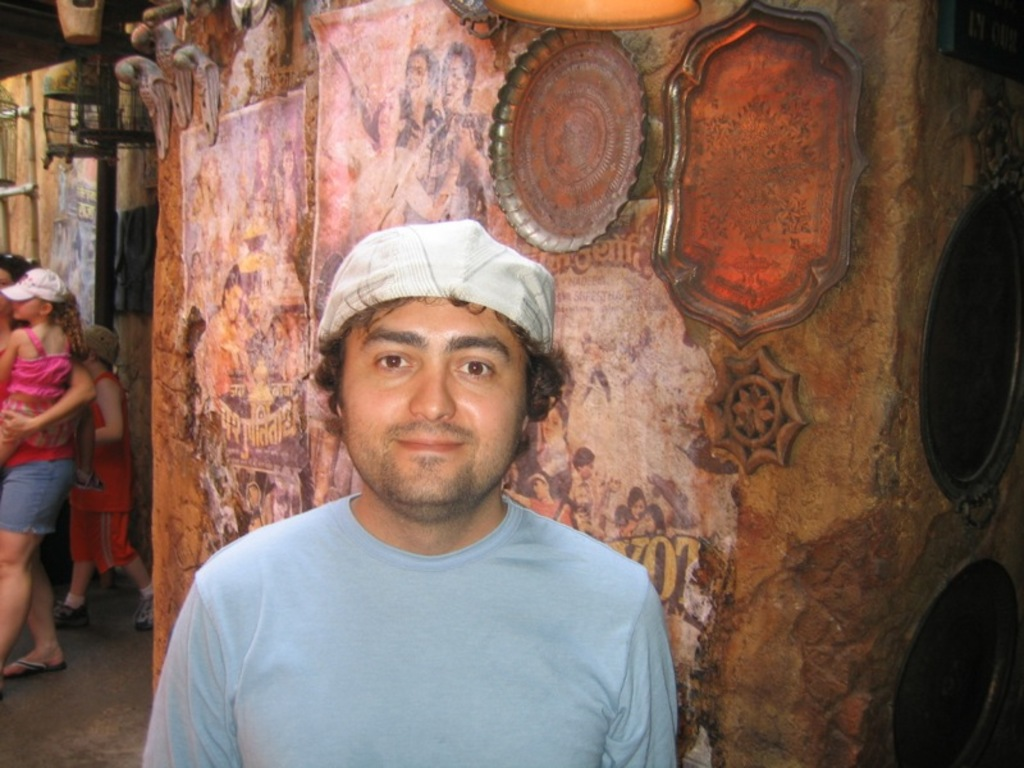Footwear: (876, 538, 1023, 763), (5, 658, 76, 682), (47, 605, 91, 630), (132, 589, 156, 627)
